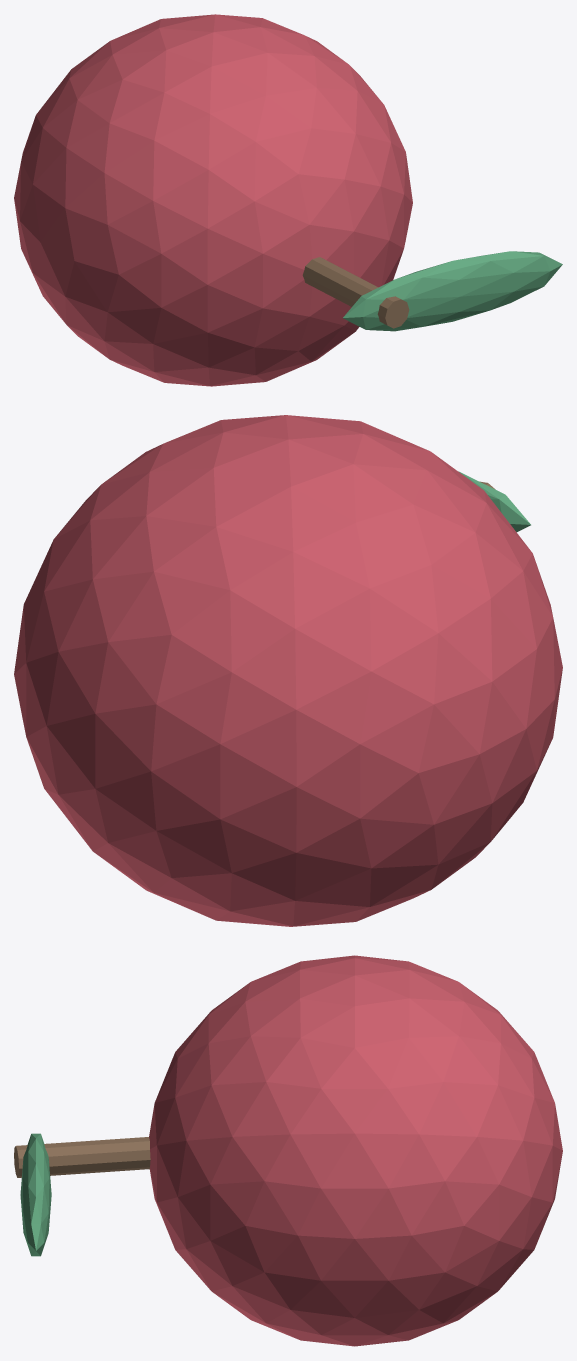
The model's file is elma.glb.
3 views of the same model, one above another, from view 1: azimuth 30°, elevation 25°; view 2: azimuth 150°, elevation 25°; view 3: azimuth 270°, elevation 25° (orthographic). The views are drawn at different scales.
Parts seen in each view (by area): view 1: fruit, leaf, stem; view 2: fruit, leaf; view 3: fruit, stem, leaf.
Part boxes in pixels (bbox=[...]): fruit: bbox=[14, 14, 412, 386]; leaf: bbox=[343, 251, 562, 331]; stem: bbox=[302, 257, 409, 328]; fruit: bbox=[14, 415, 562, 926]; leaf: bbox=[458, 471, 530, 532]; fruit: bbox=[149, 955, 562, 1346]; stem: bbox=[14, 1137, 150, 1177]; leaf: bbox=[20, 1133, 51, 1256].
Size of the model in its own units: 0.684 by 0.5952 by 0.8439.
